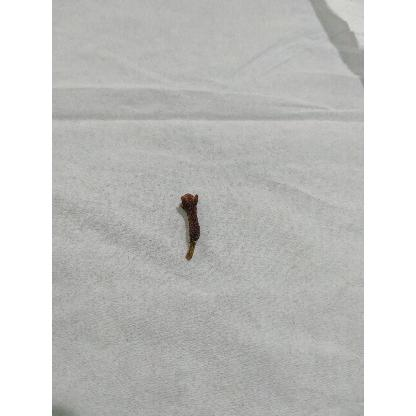sedang: (180, 193, 200, 242)
